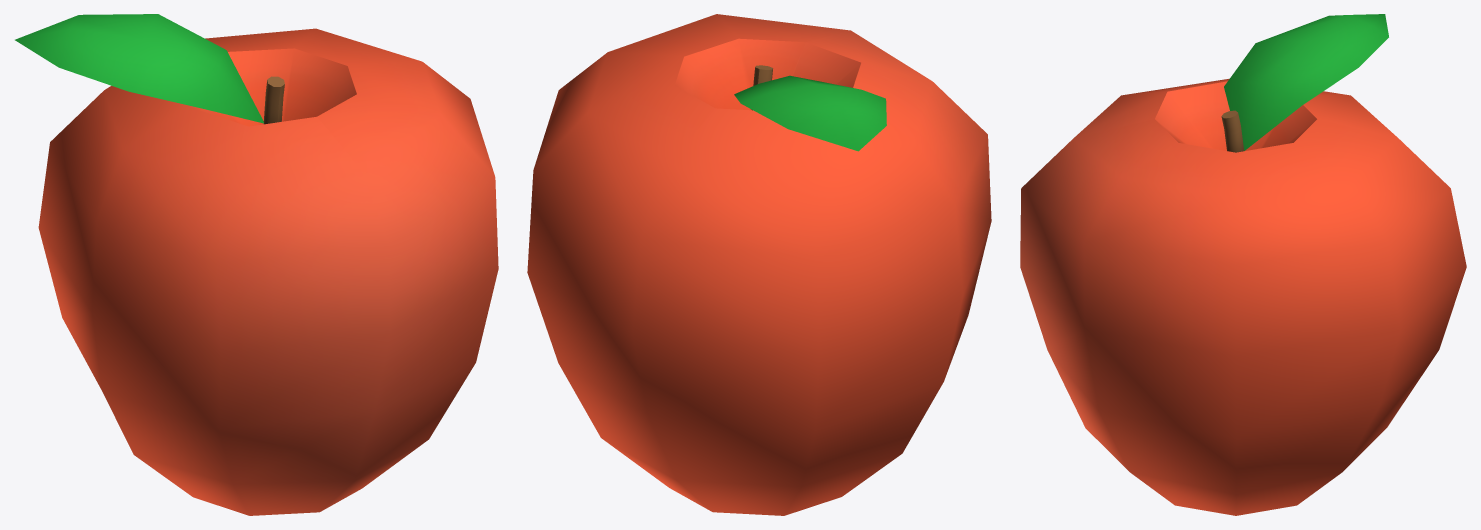
File: apple.FBX
3 renders of one model, left to right at view 1: azimuth 30°, elevation 25°; view 2: azimuth 150°, elevation 25°; view 3: azimuth 270°, elevation 25°, orthographic. The views are drawn at different scales.
Parts seen in each view (by area): view 1: apple; view 2: apple; view 3: apple.
Boxes of the visible parts, x1=… form: apple: x1=15, y1=14, x2=498, y2=515; apple: x1=527, y1=14, x2=991, y2=515; apple: x1=1020, y1=14, x2=1466, y2=515.
Size of the model in its own units: 34.05 by 37.08 by 36.44.
